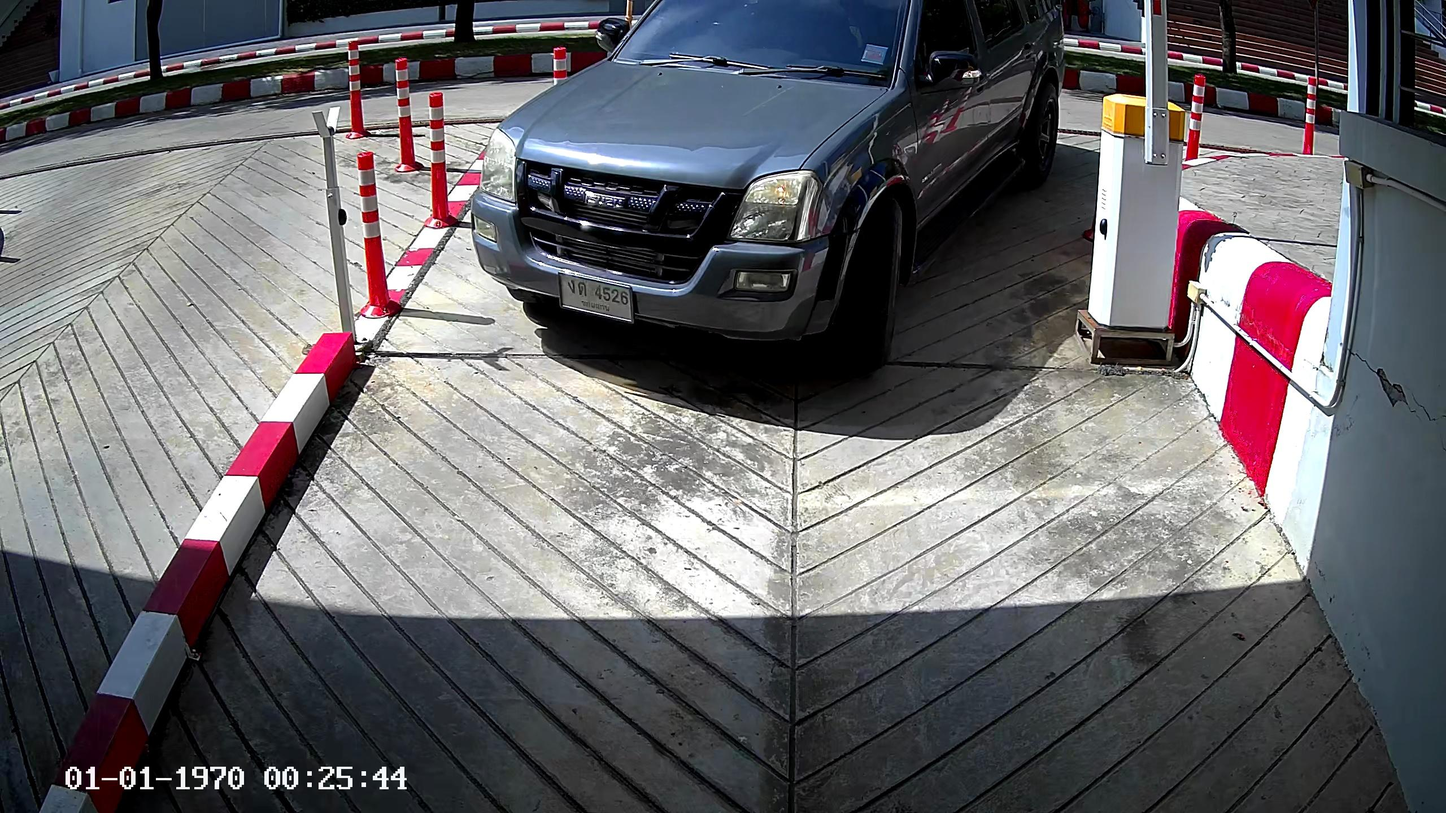car: (469, 0, 1063, 378)
license-plate: (556, 264, 635, 327)
